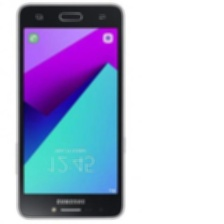phone: (14, 2, 128, 221)
